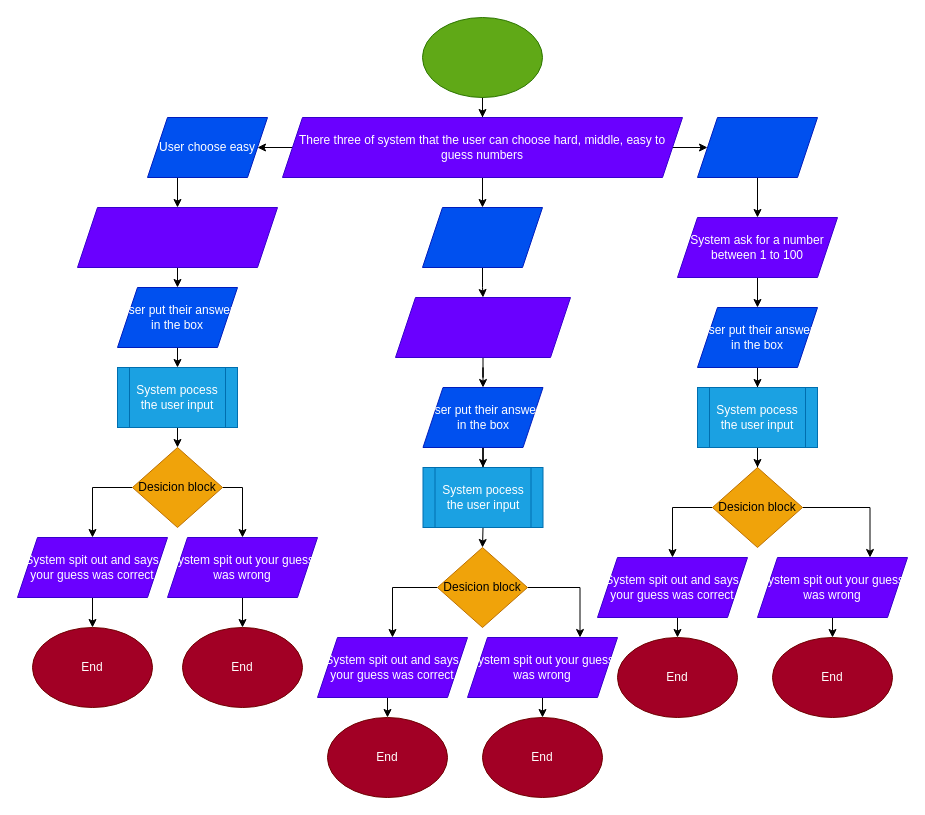
The diagram is 925 pixels wide and 815 high, and some of its shapes have lost their labels. Each missing label, with the centre of its shape:
Start: [482,57]
System ask for a number between 1 to 10: [177,237]
System ask for a number between 1 to 50: [482,327]
User choose hard: [757,147]
User Choose middle: [482,237]
